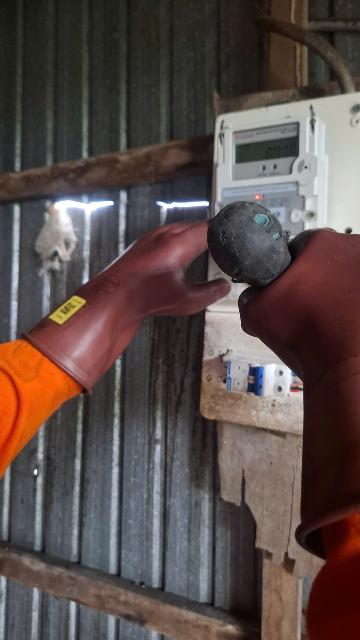gloves: (233, 212, 360, 558), (26, 198, 232, 401)
